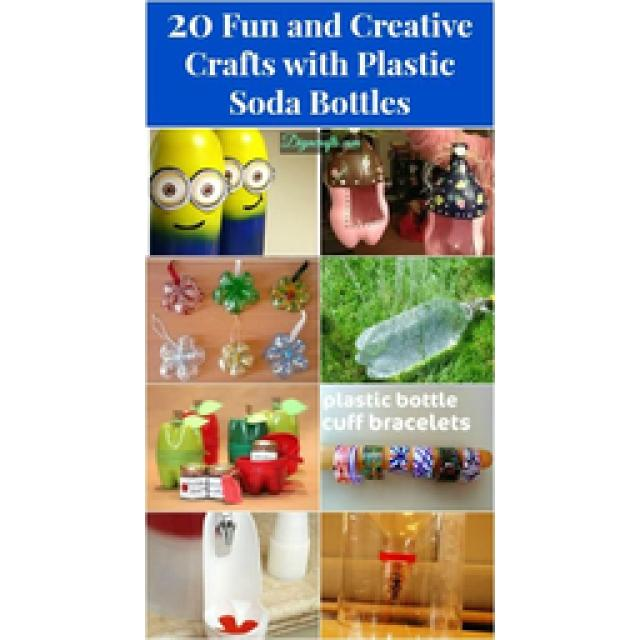plastic_water_bottles: (351, 297, 478, 384)
